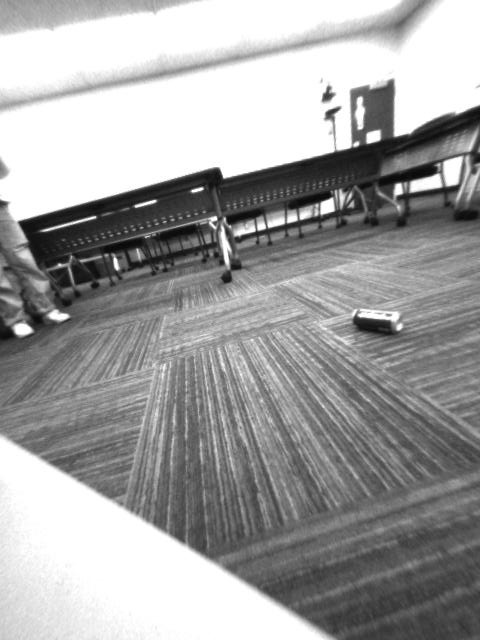can: (351, 302, 405, 336)
